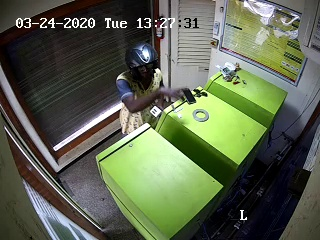helmet: (114, 41, 165, 84)
